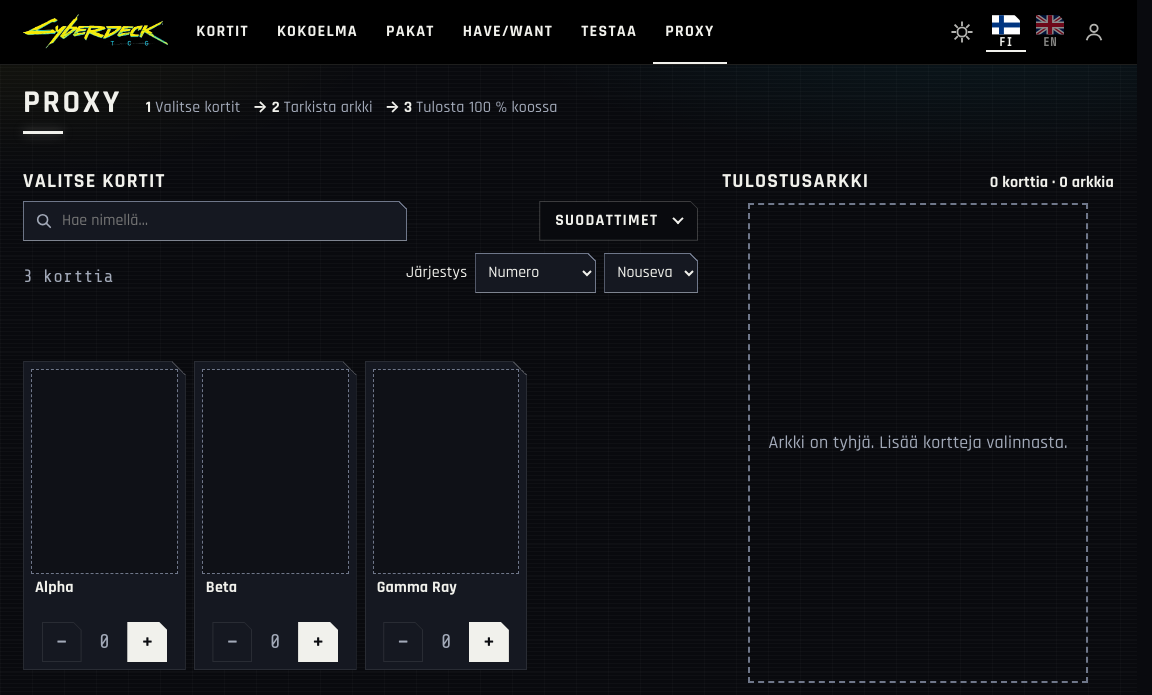
Test: Proxy section (T-102) › adds a copy with a click on the picture and removes one with the × on the sheet
// No picture in the test data: the picture button is only there for cards that have one, the plus button always.
Click the 2nd button "+". click: x=318, y=642
box: [298,622,338,662]
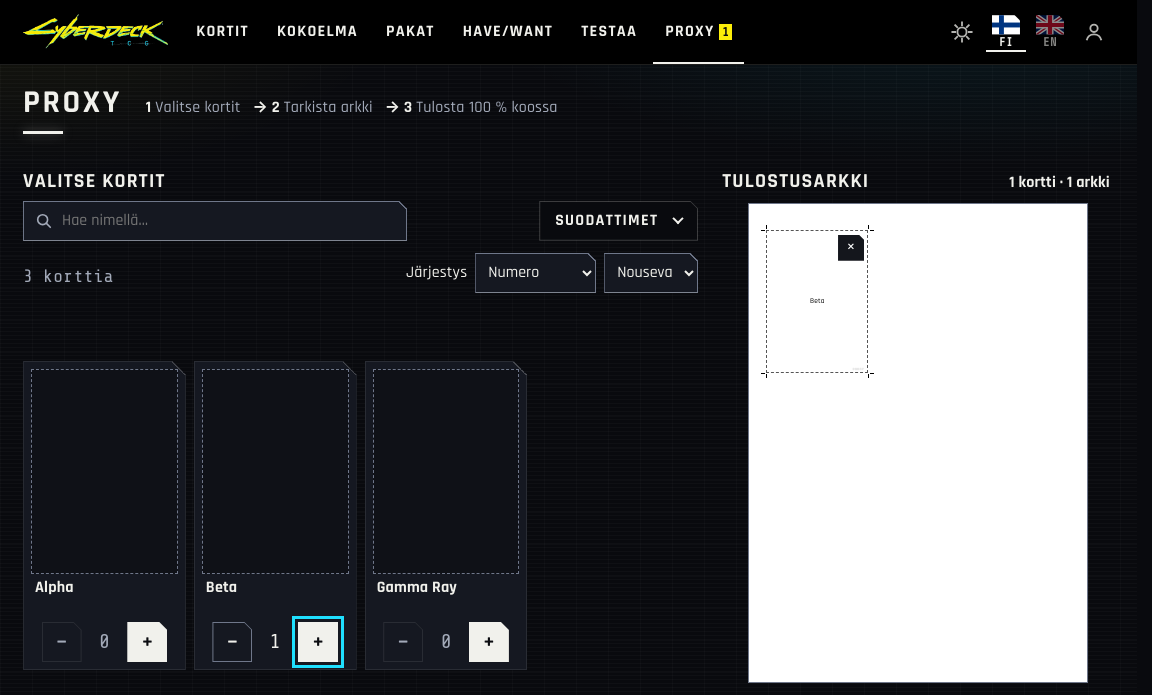
Click the 2nd button "+". click: x=318, y=642
box: [298,622,338,662]
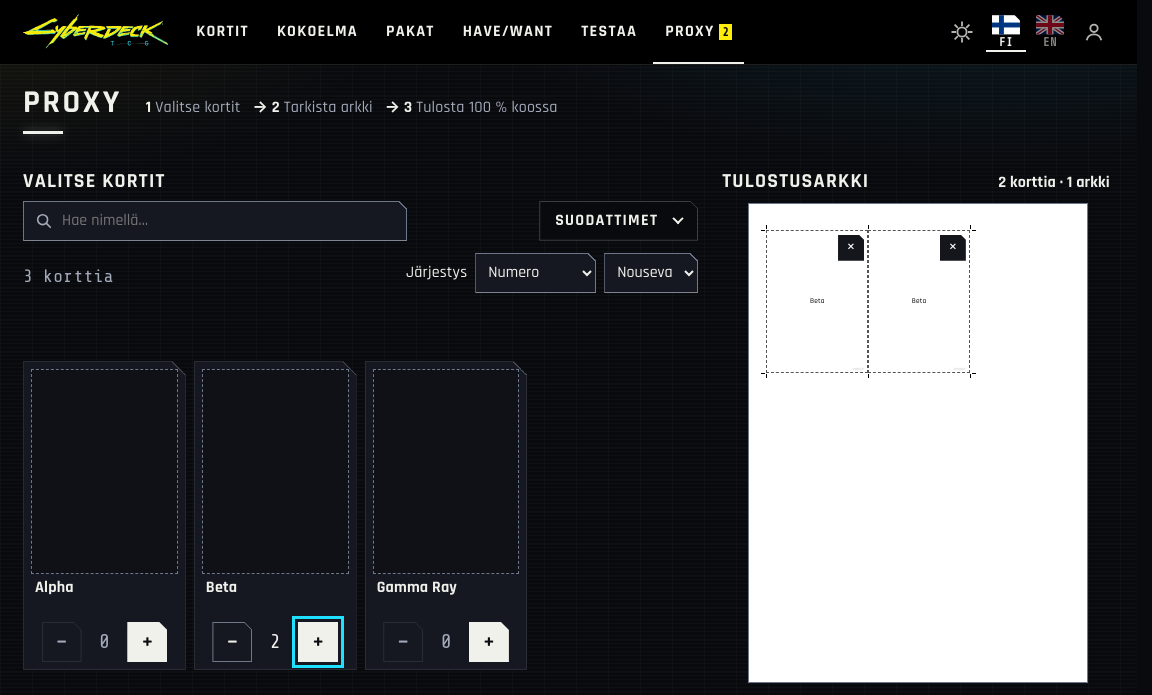
Click the button named "Poista arkilta: Beta". click: x=851, y=248
box: [837,234,865,262]
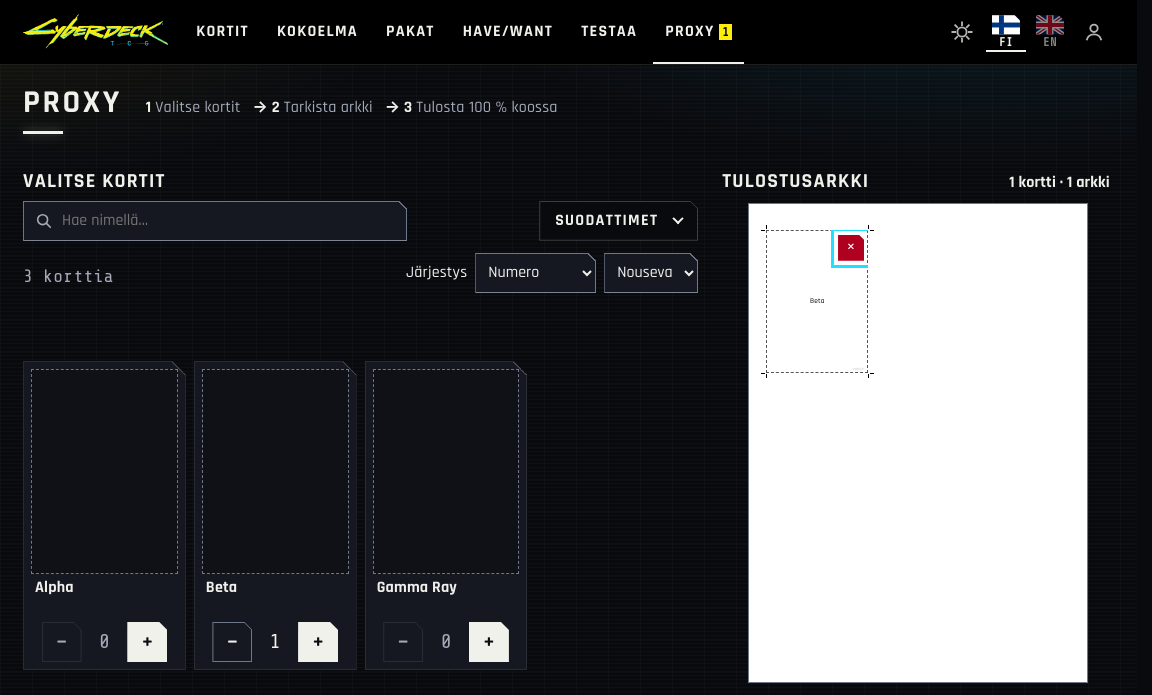
Check: the button named "Poista jonosta yksi kappale: Beta" is shown, box [212,622,252,662]
Check: the text "1 kortti · 1 arkki" is shown, box [1005,172,1114,193]
Check: the number of buttons named "Poista arkilta: Beta" is 1, box [837,234,865,262]
